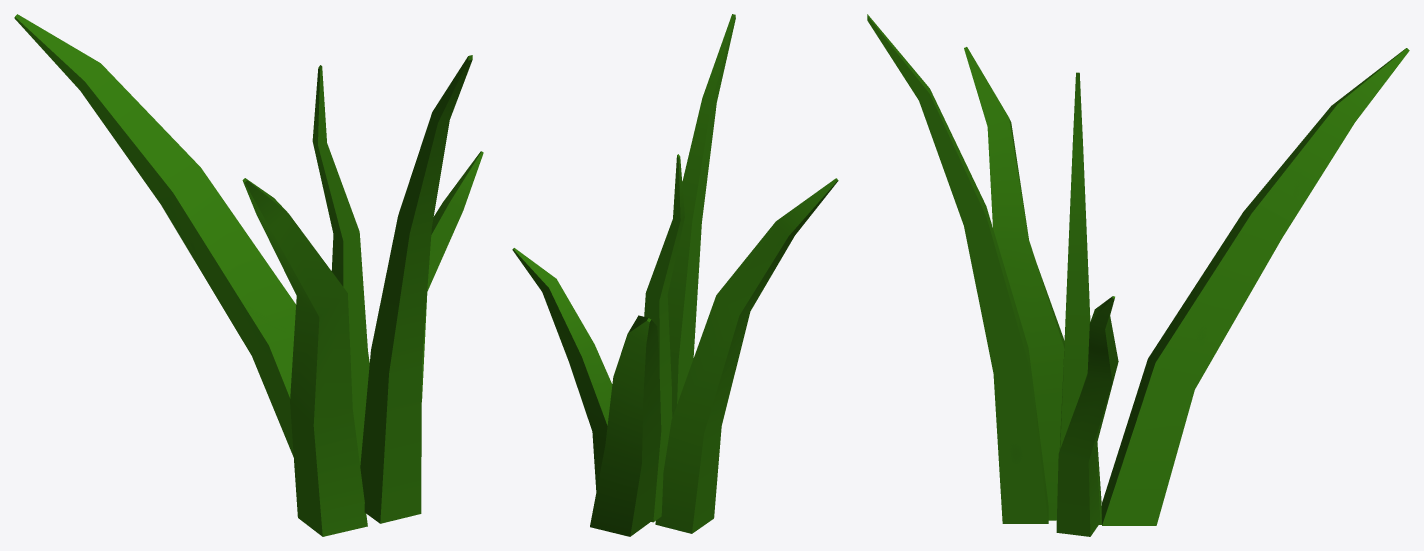
The model's file is Grass_03.fbx.
3 renders of one model, left to right at view 1: azimuth 30°, elevation 25°; view 2: azimuth 150°, elevation 25°; view 3: azimuth 270°, elevation 25°, orthographic. The views are drawn at different scales.
Parts seen in each view (by area): view 1: Grass_03; view 2: Grass_03; view 3: Grass_03.
Boxes of the visible parts, <box> form: Grass_03: <box>14,14,483,536</box>; Grass_03: <box>512,14,838,536</box>; Grass_03: <box>867,14,1409,536</box>.
Size of the model in its own units: 0.9969 by 1.59 by 1.52.
Materials: 1 (1 with a texture image).
